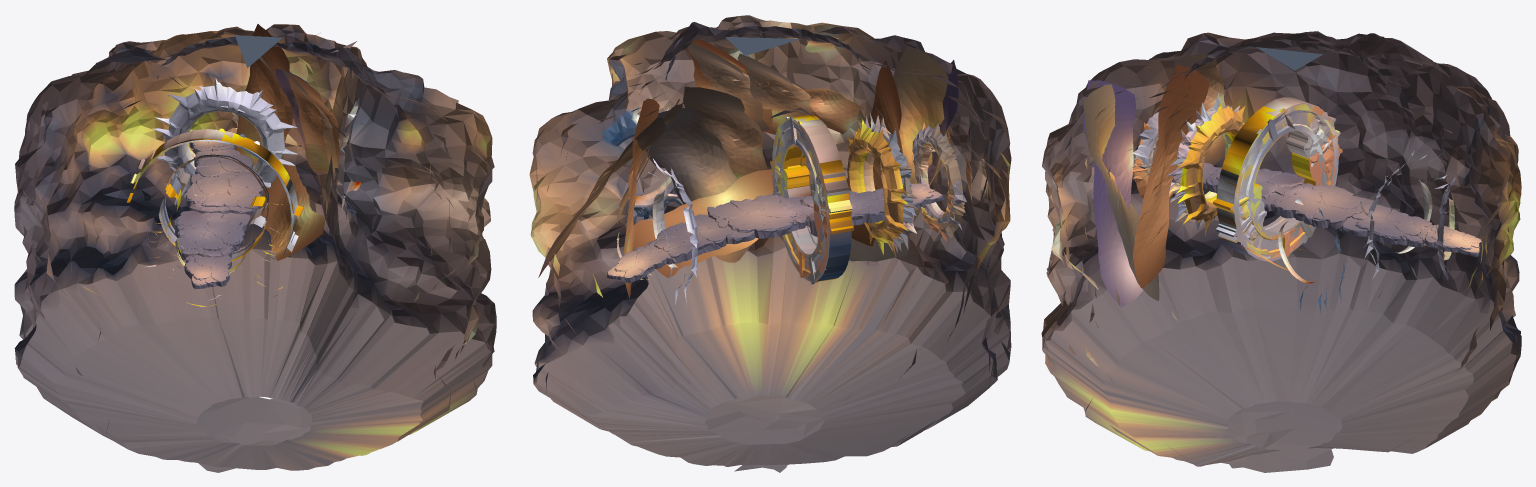
The model's file is road2.glb.
3 renders of one model, left to right at view 1: azimuth 30°, elevation 25°; view 2: azimuth 150°, elevation 25°; view 3: azimuth 270°, elevation 25°, orthographic. The views are drawn at different scales.
Visible parts, largest first — view 1: hellgate_wall_cylinder7_geo, FX_Smoke_Pillar03_QuarterOpacityX2_geo (×3), hellgate_ring2_07_geo (1), hellgate_platform2_taper2_geo (×2), hellgate_ring3_12_geo (1) (×2), hellgate_platform2B_geo, hellgate_ring3_12_geo, FX_Smoke_Pillar01_geo (9) (×2), hellgate_platform2_taper1_geo, hellgate_ring1_02_geo; view 2: hellgate_wall_cylinder7_geo, FX_Smoke_Pillar03_QuarterOpacityX2_geo (×6), hellgate_ring3_12_geo (1) (×2), FX_Smoke_Pillar01_geo (6) (×2), hellgate_ring2_07_geo (×3), FX_Smoke_Pillar01_geo (8) (×2), FX_Smoke_Pillar01_geo (7) (×2), hellgate_ring3_12_geo, hellgate_platform2_taper2_geo (×2), hellgate_platform2B_geo, hellgate_ring1_02_geo (1) (×2), hellgate_ring1_02_geo (×2) (+2 smaller); view 3: hellgate_wall_cylinder7_geo, FX_Smoke_Pillar01_geo (6) (×2), hellgate_ring3_12_geo (1) (×2), FX_Smoke_Pillar03_QuarterOpacityX2_geo, hellgate_ring3_12_geo, hellgate_ring2_07_geo (×3), hellgate_platform2_taper2_geo (×2), hellgate_platform2B_geo, hellgate_ring1_02_geo (×3), FX_Smoke_Pillar01_geo (9), hellgate_platform2_taper1_geo, hellgate_ring2_07_geo (1) (+1 smaller).
Boxes of the visible parts, x1=… form: hellgate_wall_cylinder7_geo: x1=14, y1=24, x2=496, y2=472; FX_Smoke_Pillar03_QuarterOpacityX2_geo (×3): x1=233, y1=24, x2=339, y2=260; hellgate_ring2_07_geo (1): x1=152, y1=78, x2=298, y2=197; hellgate_platform2_taper2_geo (×2): x1=174, y1=149, x2=259, y2=260; hellgate_ring3_12_geo (1) (×2): x1=129, y1=129, x2=298, y2=272; hellgate_platform2B_geo: x1=183, y1=173, x2=265, y2=216; hellgate_ring3_12_geo: x1=126, y1=128, x2=303, y2=267; FX_Smoke_Pillar01_geo (9) (×2): x1=275, y1=68, x2=339, y2=174; hellgate_platform2_taper1_geo: x1=184, y1=255, x2=231, y2=289; hellgate_ring1_02_geo: x1=336, y1=98, x2=364, y2=222; hellgate_wall_cylinder7_geo: x1=529, y1=15, x2=1011, y2=472; FX_Smoke_Pillar03_QuarterOpacityX2_geo (×6): x1=623, y1=31, x2=902, y2=298; hellgate_ring3_12_geo (1) (×2): x1=772, y1=116, x2=852, y2=284; FX_Smoke_Pillar01_geo (6) (×2): x1=849, y1=45, x2=958, y2=261; hellgate_ring2_07_geo (×3): x1=847, y1=113, x2=918, y2=257; FX_Smoke_Pillar01_geo (8) (×2): x1=540, y1=86, x2=767, y2=274; FX_Smoke_Pillar01_geo (7) (×2): x1=687, y1=43, x2=811, y2=131; hellgate_ring3_12_geo: x1=770, y1=115, x2=853, y2=282; hellgate_platform2_taper2_geo (×2): x1=645, y1=191, x2=884, y2=264; hellgate_platform2B_geo: x1=707, y1=194, x2=807, y2=244; hellgate_ring1_02_geo (1) (×2): x1=913, y1=123, x2=966, y2=241; hellgate_ring1_02_geo (×2): x1=602, y1=107, x2=965, y2=241; hellgate_wall_cylinder7_geo: x1=1041, y1=31, x2=1521, y2=472; FX_Smoke_Pillar01_geo (6) (×2): x1=1082, y1=80, x2=1159, y2=306; hellgate_ring3_12_geo (1) (×2): x1=1216, y1=97, x2=1340, y2=261; FX_Smoke_Pillar03_QuarterOpacityX2_geo: x1=1133, y1=64, x2=1209, y2=287; hellgate_ring3_12_geo: x1=1213, y1=104, x2=1342, y2=258; hellgate_ring2_07_geo (×3): x1=1167, y1=92, x2=1245, y2=235; hellgate_platform2_taper2_geo (×2): x1=1205, y1=168, x2=1433, y2=247; hellgate_platform2B_geo: x1=1270, y1=183, x2=1373, y2=229; hellgate_ring1_02_geo (×3): x1=1132, y1=122, x2=1457, y2=313; FX_Smoke_Pillar01_geo (9): x1=1172, y1=54, x2=1226, y2=164; hellgate_platform2_taper1_geo: x1=1424, y1=224, x2=1481, y2=256; hellgate_ring2_07_geo (1): x1=1363, y1=150, x2=1449, y2=279.
Size of the model in its own units: 117 by 106 by 121.
